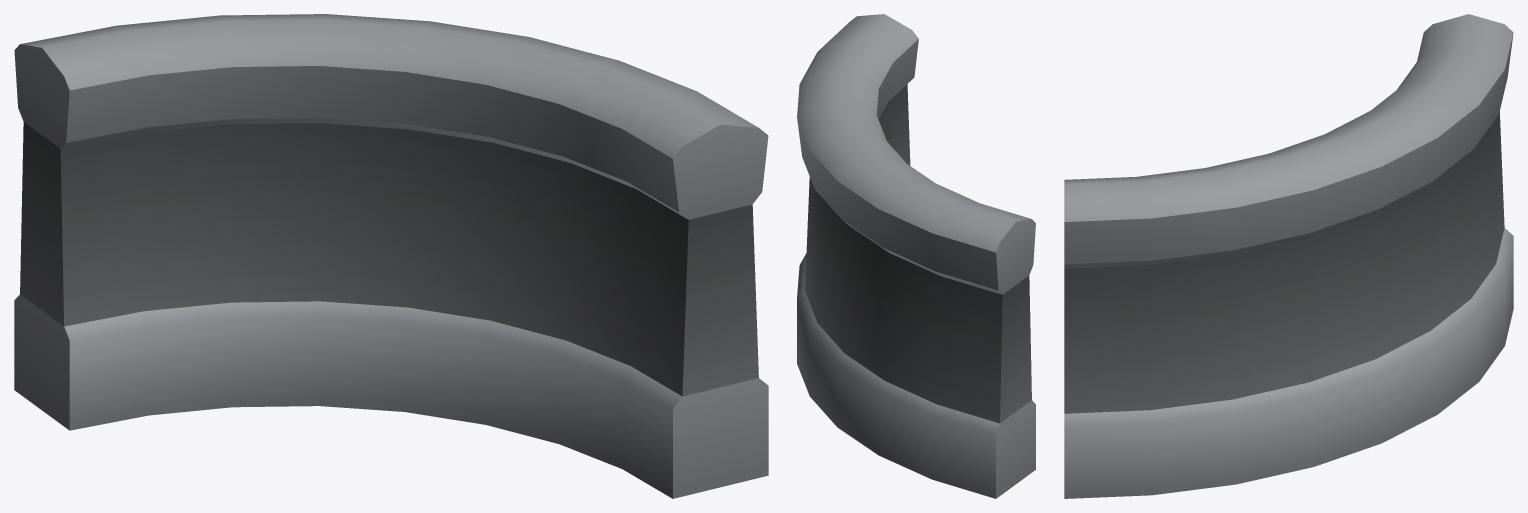
File: stone-wall-curve.glb
3 views of the same model, side by side, from view 1: azimuth 30°, elevation 25°; view 2: azimuth 150°, elevation 25°; view 3: azimuth 270°, elevation 25° (orthographic). The views are drawn at different scales.
Visible parts, largest first — view 1: stone-wall-curve; view 2: stone-wall-curve; view 3: stone-wall-curve.
Part boxes in pixels (box(x1,y1,x2,y2)): stone-wall-curve: box(14, 14, 768, 498); stone-wall-curve: box(797, 14, 1035, 498); stone-wall-curve: box(1064, 14, 1513, 498).
Size of the model in its own units: 1.5 by 1.09 by 1.5.
Materials: 1 (1 with a texture image).
